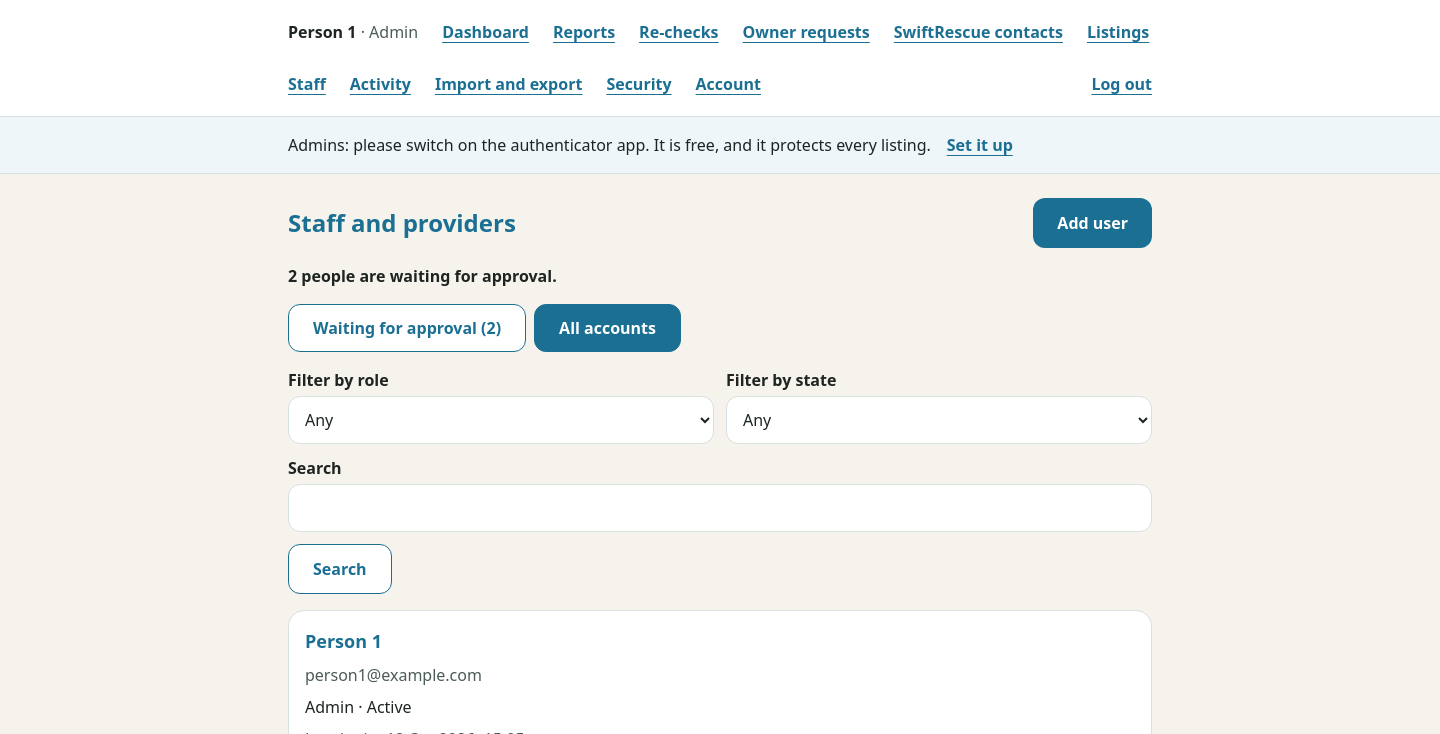
Test: Waiting for approval › rejects without a reason with an empty body
Click the tab "Waiting for approval (2)": (407, 328) [288, 304, 526, 352]
(page scrolled)
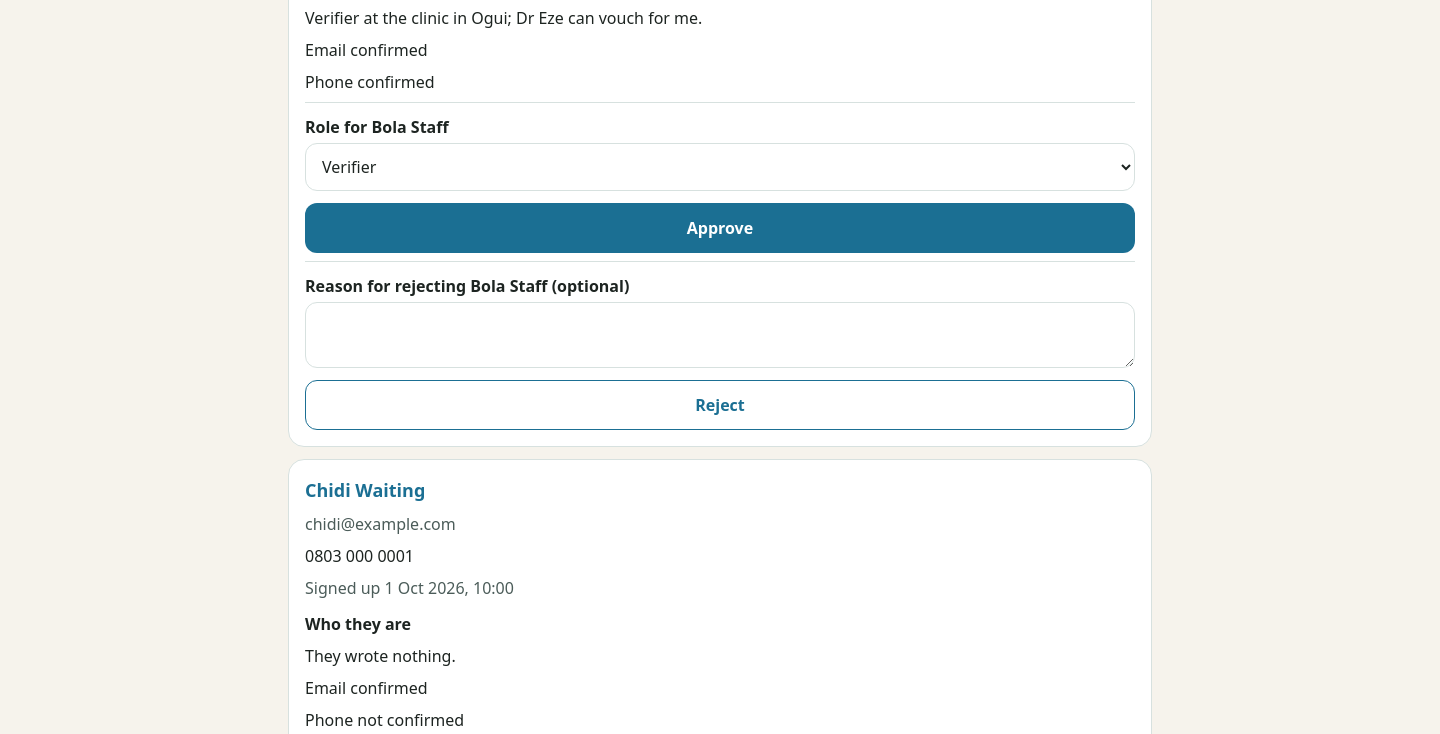
Click the button with aria-label "Reject Bola Staff": (720, 405) [305, 380, 1135, 430]
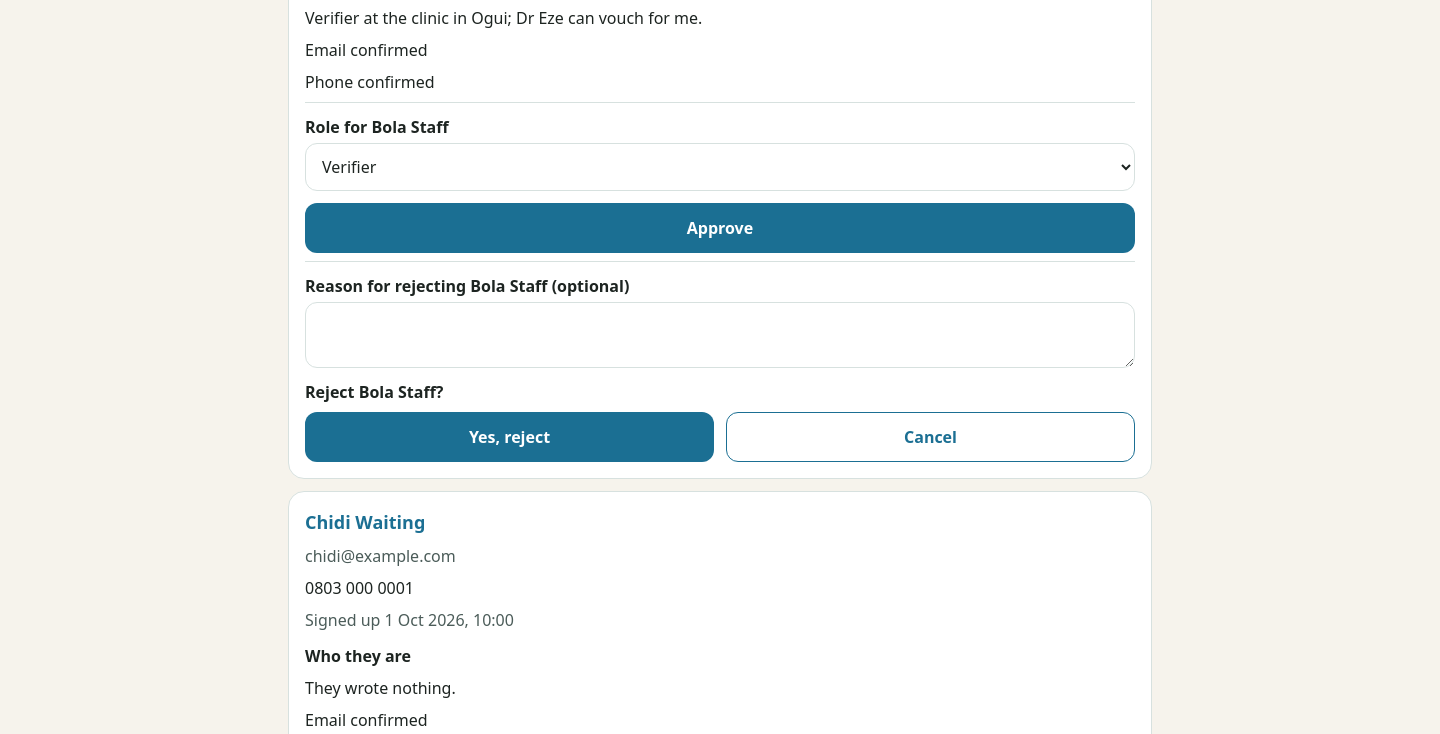
Click the button "Yes, reject": (510, 437) [305, 412, 714, 462]
(page scrolled)
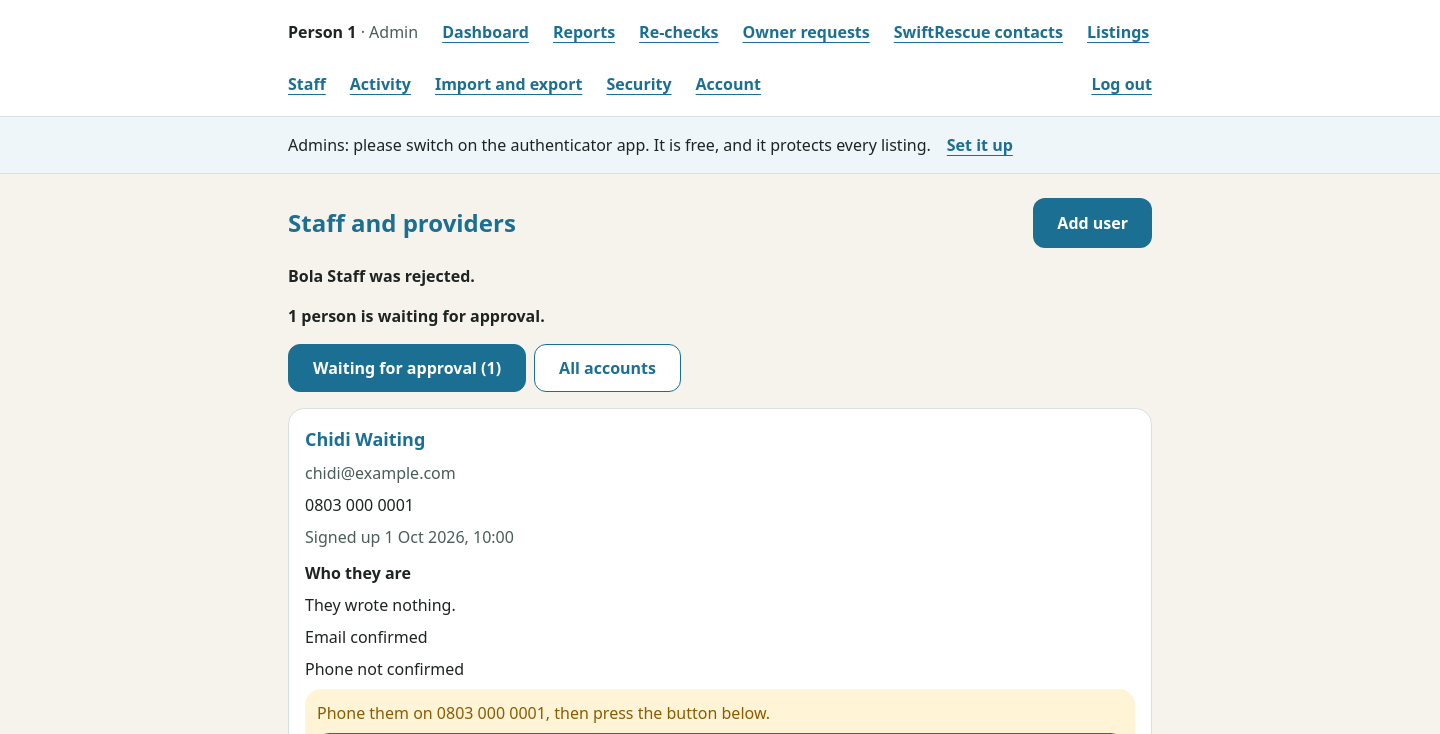
Expected: the text "Bola Staff was rejected." is shown, [288, 265, 475, 287]
